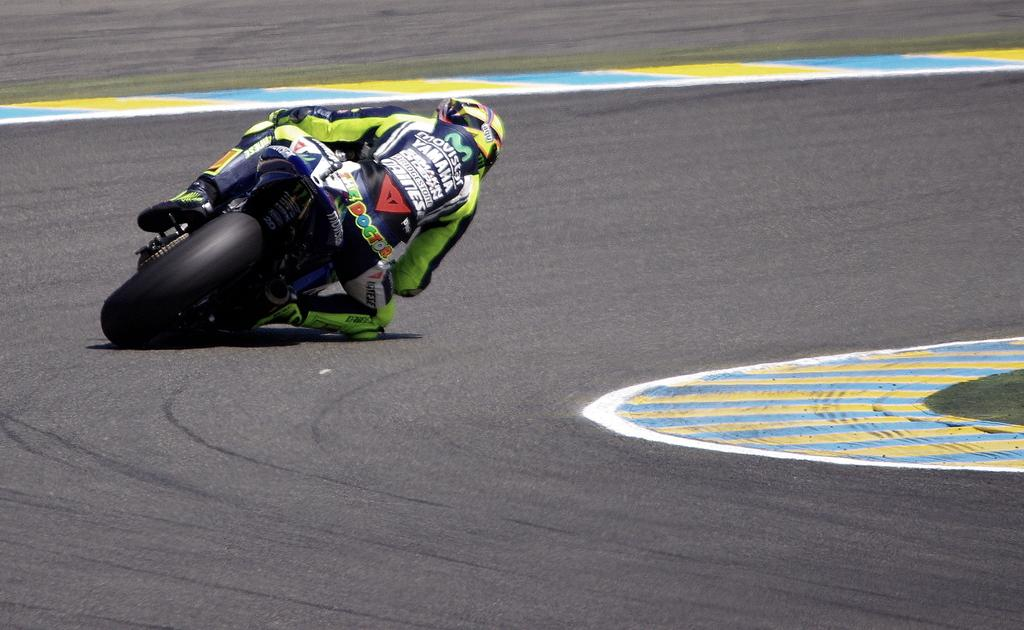helmet: (431, 97, 504, 185)
